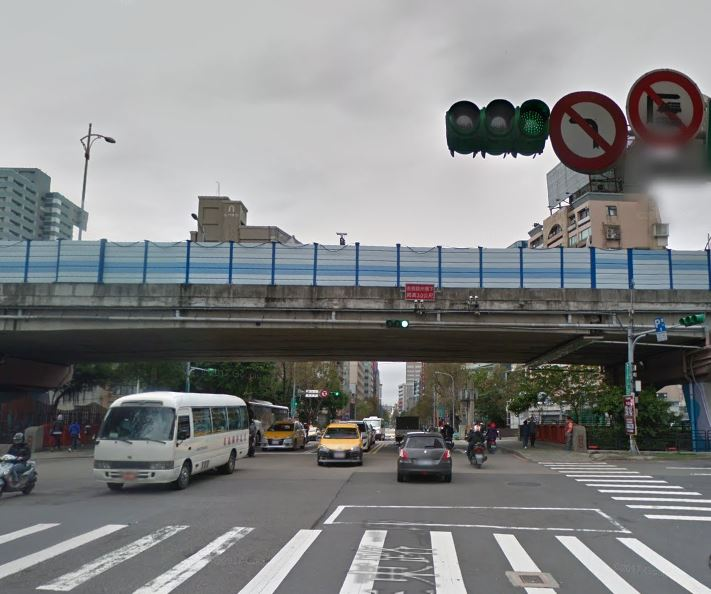Traffic_light_green: (442, 97, 552, 162), (384, 317, 409, 328)
car: (393, 429, 454, 484), (316, 420, 366, 466), (261, 413, 307, 451)
